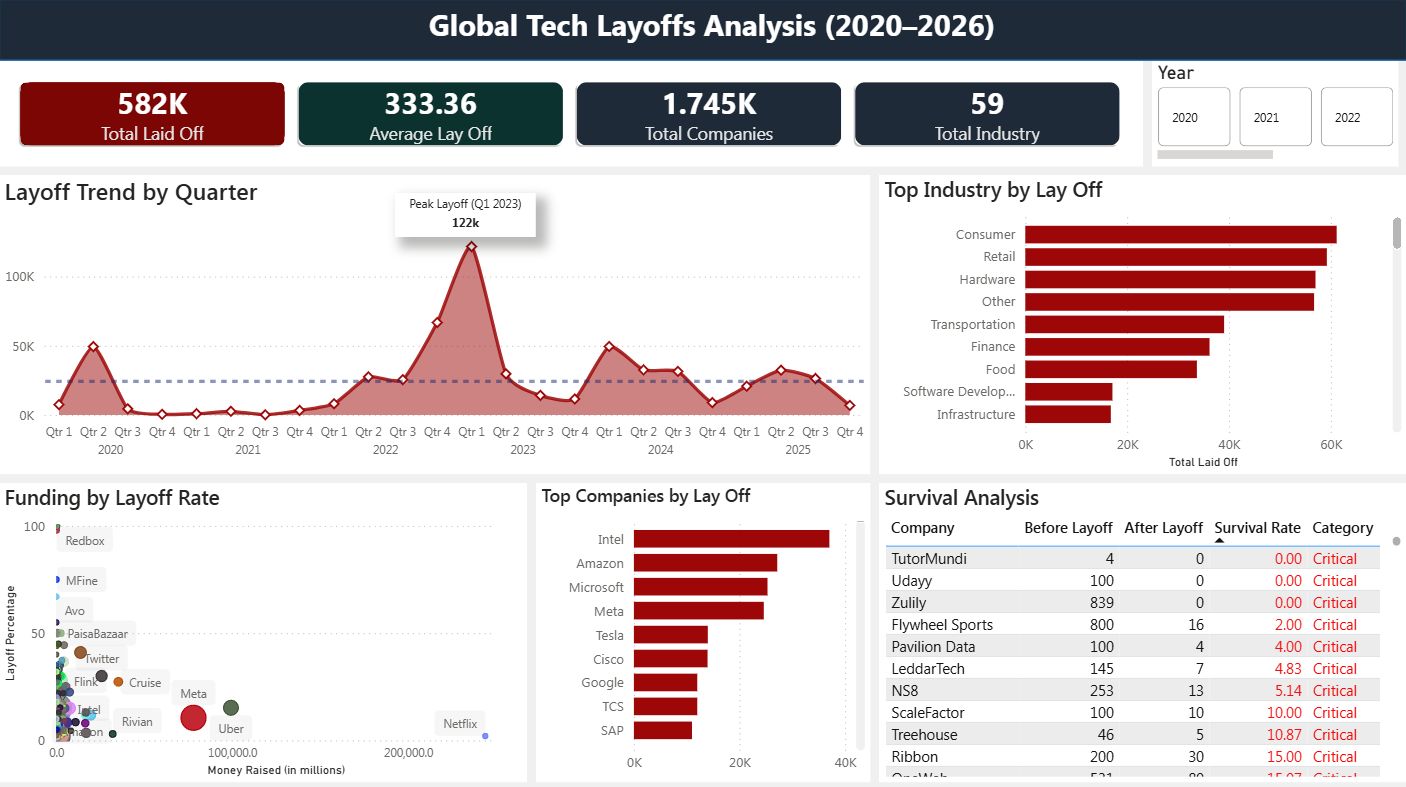

The dashboard page shown, as its layout file describes it:
{"tool":"powerbi","page":{"name":"Page 1","canvas":[1280,720],"ordinal":0},"visuals":[{"type":"shape","box":[0,0,1280,56],"z":0},{"type":"cardVisual","fields":{"Data":["Sum(vw_company_layoff_rate.Total_Laid_Off)","Avg(layoffs.Laid_Off)","CountNonNull(layoffs.Company)","Count(layoffs.Industry)"]},"box":[0,56,1040,96],"z":500},{"type":"textbox","box":[16,0,1264,64],"z":1000},{"type":"clusteredBarChart","title":"Top Industry by Lay Off","fields":{"Category":["layoffs.Industry"],"Y":["Sum(layoffs.Laid_Off)"]},"box":[800,160,480,272],"z":3000},{"type":"lineChart","title":"Layoff Trend by Quarter","fields":{"Category":["layoffs.Date_layoffs.Variation.Date Hierarchy.Year","layoffs.Date_layoffs.Variation.Date Hierarchy.Quarter","layoffs.Date_layoffs.Variation.Date Hierarchy.Month"],"Y":["Sum(layoffs.Laid_Off)"]},"box":[0,160,792,272],"z":4000},{"type":"tableEx","title":"Survival Analysis","fields":{"Values":["vw_survival_analysis.Company","Sum(vw_survival_analysis.Total_Before)","Sum(vw_survival_analysis.Total_After)","Sum(vw_survival_analysis.Survival_Rate)","vw_survival_analysis.Survival_Category"]},"box":[800,440,480,272],"z":5000},{"type":"clusteredBarChart","title":"Top Companies by Lay Off","fields":{"Category":["vw_top_companies.Company"],"Y":["Sum(vw_top_companies.Total_Layoffs)"]},"box":[488,440,304,272],"z":6000},{"type":"scatterChart","title":"Funding by Layoff Rate","fields":{"Category":["layoffs.Company"],"Size":["Sum(layoffs.Laid_Off)"],"Y":["Avg(layoffs.Percentage)"],"X":["Sum(layoffs.Money_Raised_in__mil)"],"Series":["layoffs.Company"]},"box":[0,440,480,272],"z":8000},{"type":"advancedSlicerVisual","fields":{"Values":["layoffs.Date_layoffs.Variation.Date Hierarchy.Year"]},"box":[1048,56,224,96],"z":8500},{"type":"textbox","box":[360,176,128,40],"z":9000}]}

Visuals, with their boxes in screenshot pixels (x1, y1, x2, y2), scaled from the page's 1280x720 canvas onto the 1406x787 screenshot:
shape: bbox=(0, 0, 1405, 61)
cardVisual - Sum(vw_company_layoff_rate.Total_Laid_Off) x Avg(layoffs.Laid_Off): bbox=(0, 61, 1142, 166)
textbox: bbox=(18, 0, 1405, 70)
"Top Industry by Lay Off" clusteredBarChart: bbox=(879, 175, 1405, 472)
"Layoff Trend by Quarter" lineChart: bbox=(0, 175, 870, 472)
"Survival Analysis" tableEx: bbox=(879, 481, 1405, 778)
"Top Companies by Lay Off" clusteredBarChart: bbox=(536, 481, 870, 778)
"Funding by Layoff Rate" scatterChart: bbox=(0, 481, 527, 778)
advancedSlicerVisual - layoffs.Date_layoffs.Variation.Date Hierarchy.Year: bbox=(1151, 61, 1397, 166)
textbox: bbox=(395, 192, 536, 236)
